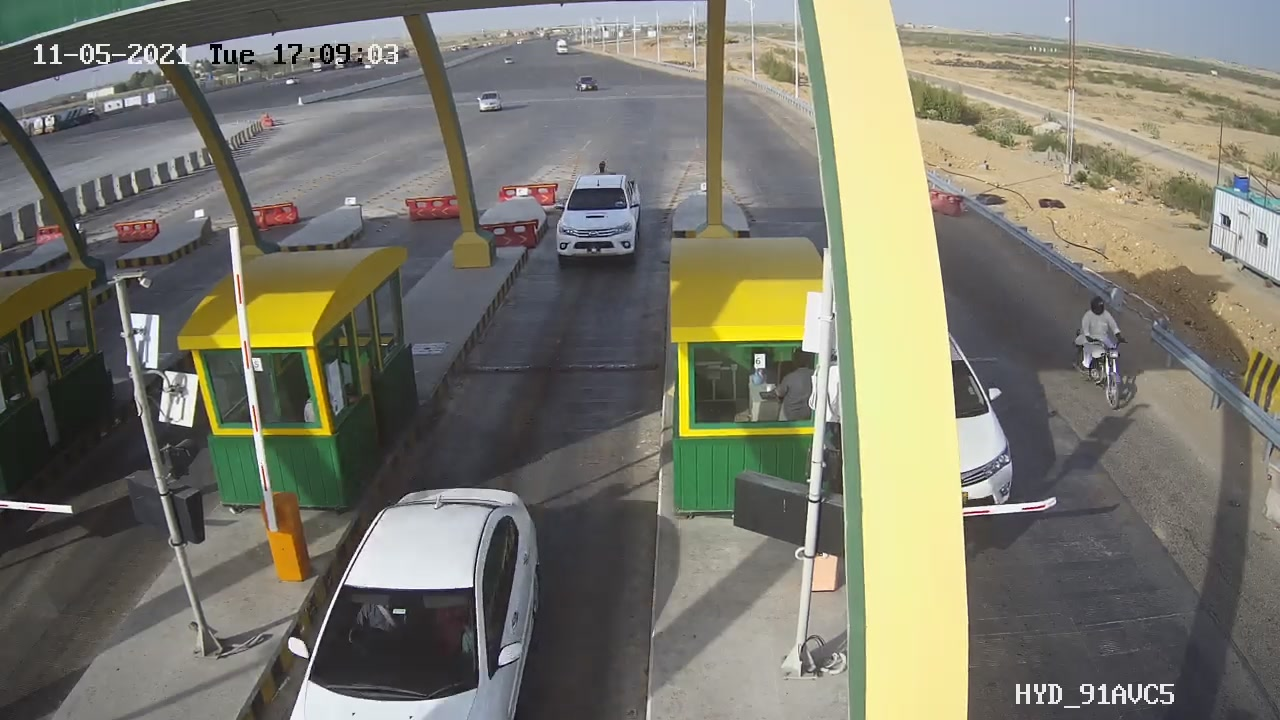F1: (534, 157, 669, 282)
